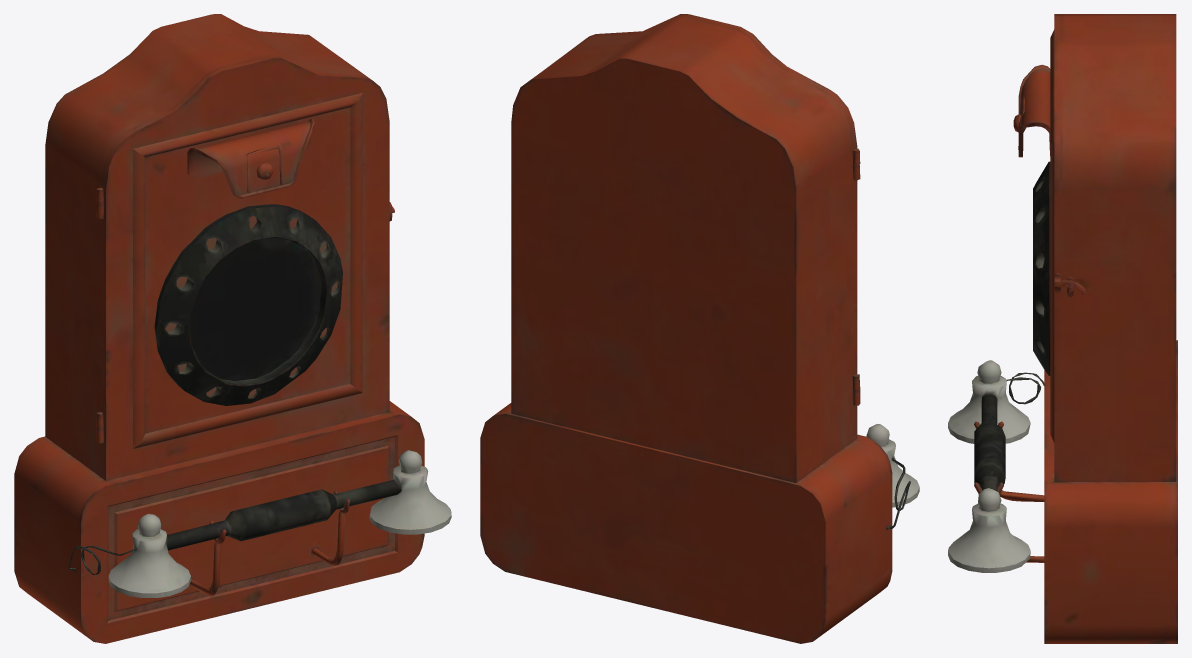
The model's file is vintage_telephone_wall_clock.glb.
The picture shows the model from 3 angles, left to right: view 1: azimuth 30°, elevation 25°; view 2: azimuth 150°, elevation 25°; view 3: azimuth 270°, elevation 25°; orthographic projection.
Parts seen in each view (by area): view 1: vintage_telephone_wall_clock; view 2: vintage_telephone_wall_clock; view 3: vintage_telephone_wall_clock.
Boxes of the visible parts, x1,y1,x2,y2 form: vintage_telephone_wall_clock: [14, 14, 451, 643]; vintage_telephone_wall_clock: [480, 14, 919, 643]; vintage_telephone_wall_clock: [948, 14, 1177, 643].
Size of the model in its own units: 0.3427 by 0.5006 by 0.1926.
2 materials, 2 textured.
